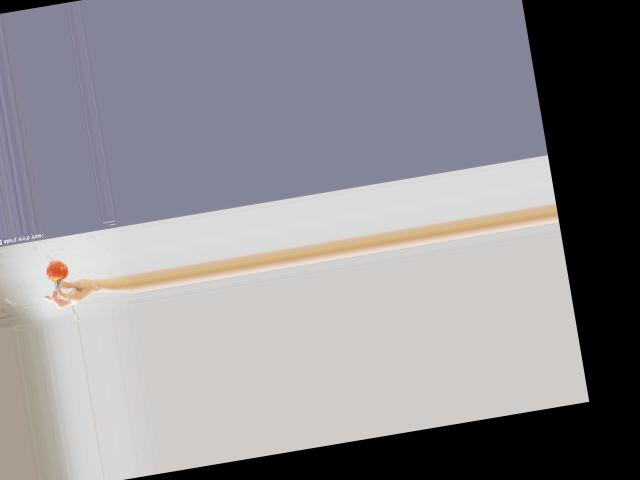tomato: (45, 257, 70, 281)
